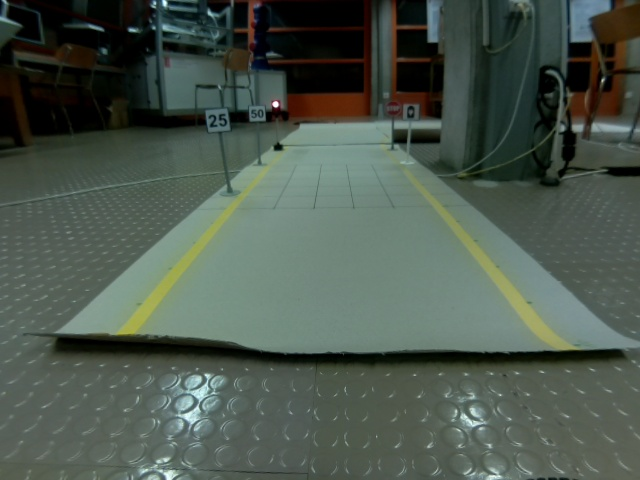battery: (402, 102, 421, 122)
speed25: (203, 107, 232, 133)
speed50: (247, 105, 267, 123)
stop: (385, 101, 401, 117)
traffic light: (270, 99, 282, 118)
